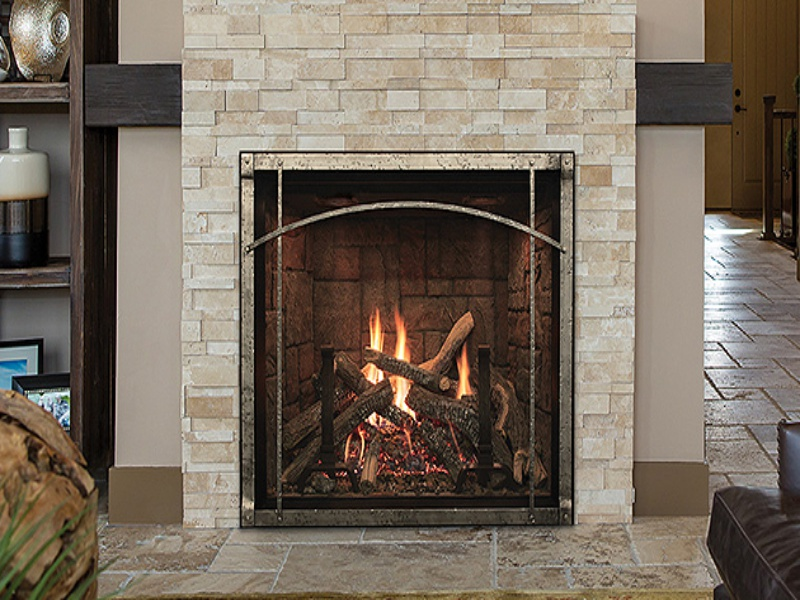fire: (359, 295, 423, 429)
